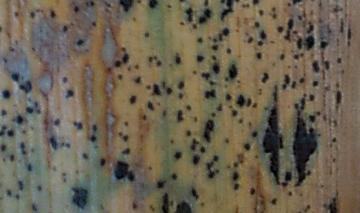tarspot: (293, 116, 317, 186), (263, 108, 283, 185), (72, 186, 89, 210), (114, 161, 128, 179), (222, 1, 233, 21), (205, 120, 214, 143), (19, 81, 32, 95), (119, 1, 134, 13), (176, 201, 191, 213), (162, 192, 169, 213), (185, 7, 194, 23), (204, 89, 216, 100), (229, 63, 237, 79), (49, 136, 57, 151), (306, 35, 314, 50), (329, 198, 337, 213), (273, 85, 279, 104), (296, 35, 303, 51), (1, 89, 12, 99), (237, 94, 245, 107), (283, 30, 291, 43), (299, 97, 307, 110), (191, 187, 199, 200), (221, 26, 230, 37), (153, 83, 161, 95), (261, 72, 269, 84), (312, 61, 320, 73), (177, 108, 184, 121), (24, 106, 34, 115), (320, 40, 329, 50), (192, 154, 200, 165), (122, 53, 130, 64), (286, 18, 294, 29), (336, 90, 342, 104), (65, 90, 74, 99), (202, 72, 211, 81), (52, 117, 61, 126), (146, 102, 155, 111), (306, 24, 314, 34), (213, 64, 220, 75), (128, 170, 135, 181), (49, 9, 57, 18), (203, 9, 211, 18), (174, 151, 182, 160), (324, 58, 330, 70), (30, 203, 38, 212), (301, 6, 307, 18), (99, 157, 106, 167), (177, 81, 184, 91), (285, 171, 292, 181), (284, 74, 290, 85), (18, 180, 24, 191), (347, 28, 352, 41), (11, 73, 19, 81), (121, 146, 129, 154), (197, 55, 205, 63), (340, 18, 344, 34), (248, 187, 256, 195), (206, 161, 214, 169), (216, 104, 223, 113), (309, 114, 316, 123), (232, 171, 239, 180), (62, 75, 68, 85), (122, 134, 128, 144), (176, 52, 181, 64), (246, 97, 252, 107), (257, 86, 263, 96), (1, 108, 8, 116), (150, 1, 158, 8), (114, 60, 121, 68), (276, 26, 284, 33), (243, 143, 250, 151), (318, 182, 325, 190), (27, 163, 33, 172), (130, 95, 136, 104), (226, 47, 232, 56), (233, 182, 239, 191), (150, 204, 156, 213), (257, 51, 262, 61), (332, 118, 337, 128), (105, 1, 112, 8), (200, 16, 207, 23), (212, 45, 219, 52), (193, 138, 200, 145), (82, 153, 89, 160), (134, 77, 141, 84), (336, 57, 343, 64), (332, 6, 339, 13), (157, 181, 164, 188), (6, 189, 13, 196), (334, 82, 341, 89), (17, 116, 23, 124), (8, 129, 14, 137), (211, 53, 217, 61), (90, 134, 96, 142), (120, 45, 126, 53), (161, 109, 167, 117), (186, 129, 192, 137), (309, 94, 315, 102), (208, 170, 214, 178), (171, 172, 177, 180), (15, 193, 21, 201), (322, 114, 328, 122), (1, 143, 6, 152), (167, 87, 172, 96), (261, 30, 266, 39), (292, 1, 303, 5), (8, 46, 15, 52), (9, 154, 15, 161), (144, 31, 150, 38), (106, 66, 112, 73), (133, 64, 140, 70), (247, 36, 253, 43), (258, 9, 264, 16), (252, 131, 258, 138), (306, 170, 312, 177), (232, 161, 238, 168), (271, 198, 277, 205), (281, 181, 288, 187), (317, 18, 324, 24), (74, 5, 79, 13), (192, 22, 197, 30), (200, 146, 205, 154), (213, 155, 218, 163), (77, 121, 82, 129), (193, 116, 198, 124), (242, 3, 250, 8), (279, 53, 284, 61), (297, 13, 302, 21), (313, 79, 318, 87), (59, 172, 67, 177), (30, 46, 36, 52), (63, 25, 67, 34), (167, 4, 173, 10), (212, 37, 218, 43), (219, 33, 223, 42), (145, 84, 151, 90), (162, 80, 166, 89), (292, 30, 298, 36), (292, 80, 296, 89), (331, 157, 337, 163), (327, 28, 333, 34), (317, 2, 323, 8), (11, 117, 17, 123), (31, 12, 36, 19), (92, 21, 97, 28), (77, 40, 84, 45), (20, 142, 25, 149), (190, 144, 195, 151), (93, 124, 98, 131), (73, 120, 78, 127), (124, 120, 129, 127), (187, 105, 192, 112), (178, 92, 183, 99), (192, 69, 197, 76), (226, 94, 231, 101), (255, 21, 260, 28), (257, 40, 264, 45), (253, 102, 258, 109), (299, 77, 304, 84), (293, 54, 300, 59), (332, 136, 337, 143), (294, 103, 299, 110), (132, 202, 137, 209), (254, 153, 259, 160), (14, 12, 19, 18), (36, 109, 42, 114), (2, 124, 7, 130), (204, 1, 209, 7), (198, 37, 203, 43), (210, 80, 215, 86), (21, 128, 26, 134), (118, 74, 123, 80), (142, 115, 147, 121), (224, 77, 230, 82), (228, 104, 233, 110), (233, 110, 238, 116), (269, 39, 275, 44), (297, 110, 302, 116), (37, 185, 42, 191), (293, 63, 298, 69), (286, 64, 292, 69), (317, 132, 322, 138), (1, 130, 5, 137), (132, 16, 136, 23), (149, 55, 153, 62), (253, 1, 260, 5), (282, 83, 286, 90), (347, 41, 351, 48), (323, 201, 327, 208), (310, 9, 314, 16), (34, 102, 39, 107), (180, 21, 185, 26), (148, 165, 153, 170), (66, 143, 71, 148), (60, 142, 65, 147), (118, 132, 123, 137), (63, 178, 68, 183), (316, 111, 321, 116), (3, 57, 7, 63), (85, 1, 89, 7), (127, 66, 131, 72), (157, 60, 161, 66), (154, 55, 158, 61), (225, 138, 229, 144), (239, 119, 243, 125), (306, 204, 310, 210), (200, 201, 204, 207), (248, 121, 252, 127), (21, 150, 26, 154), (157, 101, 161, 106), (273, 13, 277, 18), (272, 7, 276, 12), (236, 80, 241, 84), (287, 2, 291, 7), (287, 192, 292, 196), (216, 169, 220, 174), (1, 25, 3, 34), (91, 1, 94, 7), (3, 157, 6, 163), (31, 147, 34, 153), (170, 140, 174, 144), (303, 93, 307, 97), (212, 112, 215, 117), (236, 28, 239, 33), (138, 1, 142, 4), (221, 1, 225, 4), (180, 1, 185, 3), (235, 1, 240, 3)
